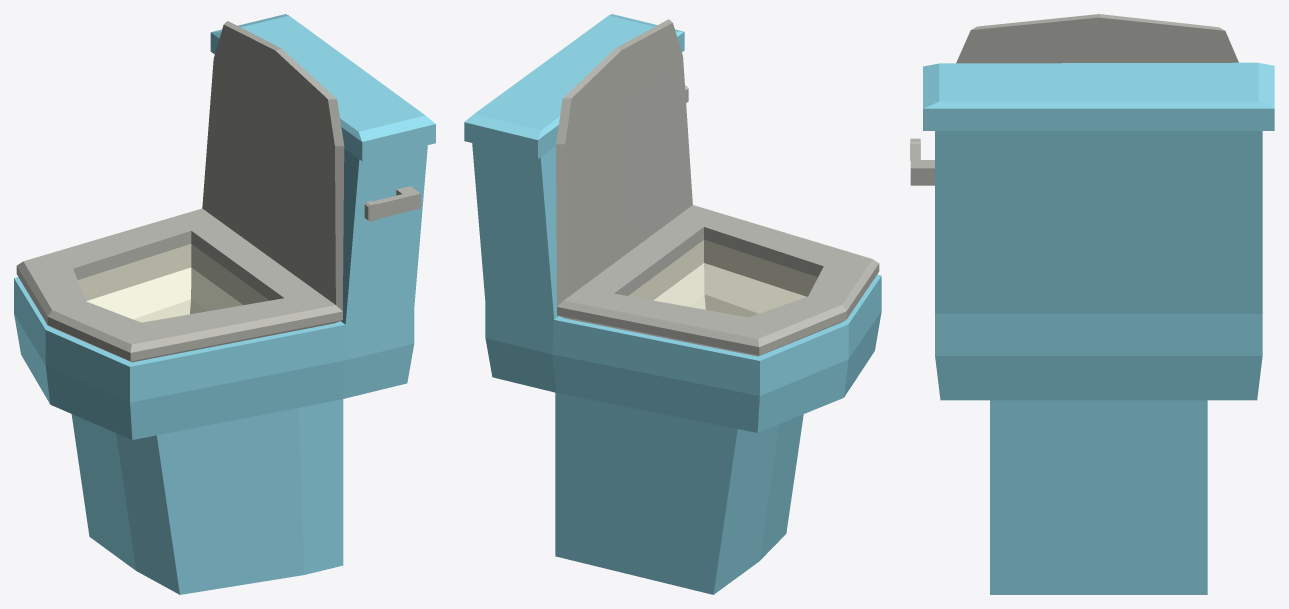
The model's file is Toilet.fbx.
3 views of the same model, side by side, from view 1: azimuth 30°, elevation 25°; view 2: azimuth 150°, elevation 25°; view 3: azimuth 270°, elevation 25° (orthographic). The views are drawn at different scales.
Parts seen in each view (by area): view 1: Cube.8166; view 2: Cube.8166; view 3: Cube.8166.
Boxes of the visible parts, x1,y1,x2,y2 form: Cube.8166: (14, 14, 435, 594); Cube.8166: (464, 14, 881, 594); Cube.8166: (910, 14, 1274, 594).
Size of the model in its own units: 122 by 179 by 104.
Materials: 1 (1 with a texture image).
